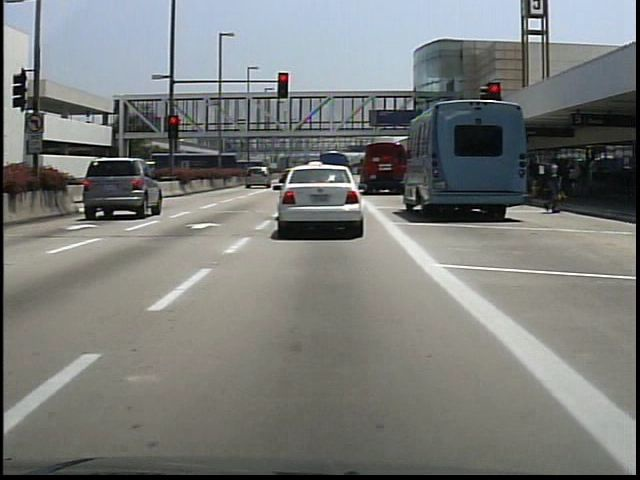person: (542, 154, 563, 215), (548, 156, 565, 203)
